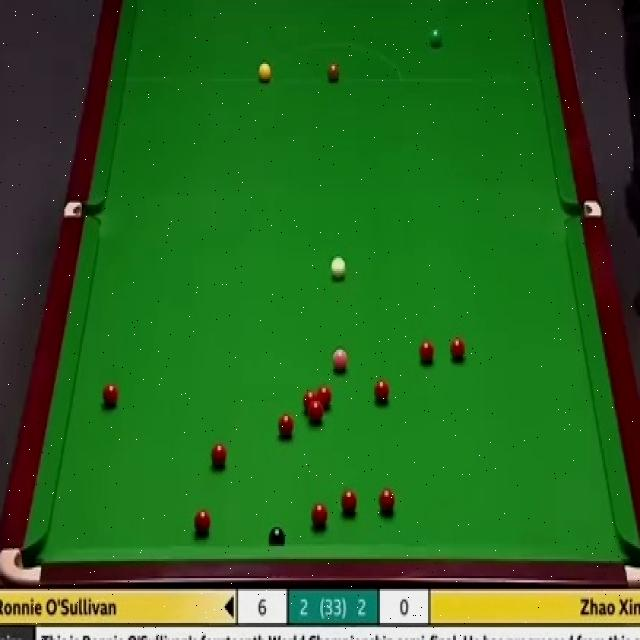black-ball: (268, 527, 286, 547)
brown-ball: (325, 60, 340, 84)
green-ball: (427, 28, 443, 49)
pink-ball: (332, 344, 349, 373)
red-ball: (418, 338, 436, 369), (102, 382, 121, 411), (194, 508, 212, 536), (378, 488, 396, 516), (210, 442, 227, 471), (373, 378, 389, 406), (312, 502, 328, 529), (341, 489, 357, 516), (278, 413, 294, 438), (450, 339, 466, 364), (318, 386, 332, 412), (303, 390, 317, 412), (309, 404, 323, 424)
white-ball: (330, 253, 348, 282)
yellow-ball: (257, 61, 271, 82)
